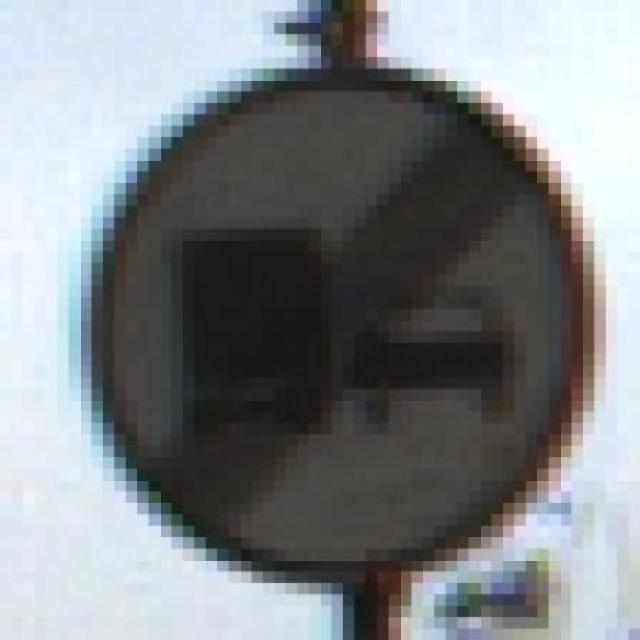Overtaking by trucks is prohibited: (46, 34, 628, 617)
